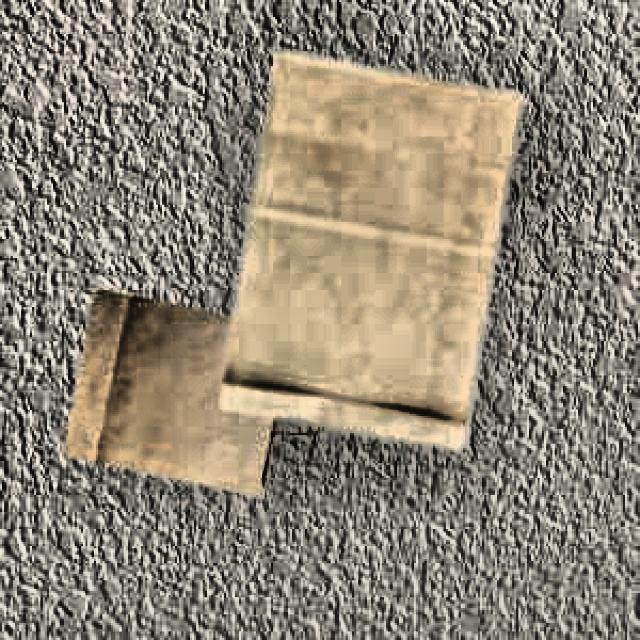Paper-bag: (209, 43, 532, 458), (61, 276, 344, 492)
